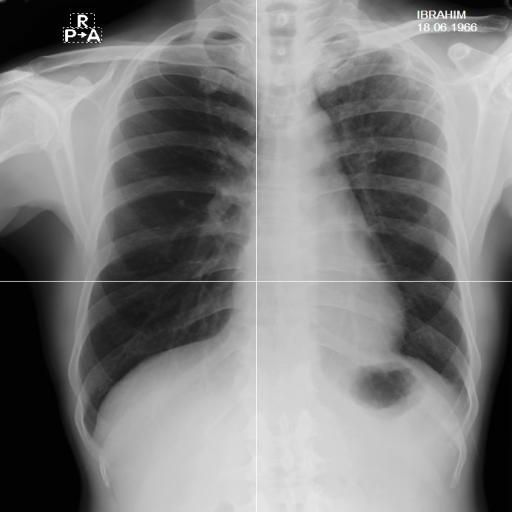normal: (62, 12, 485, 446)
